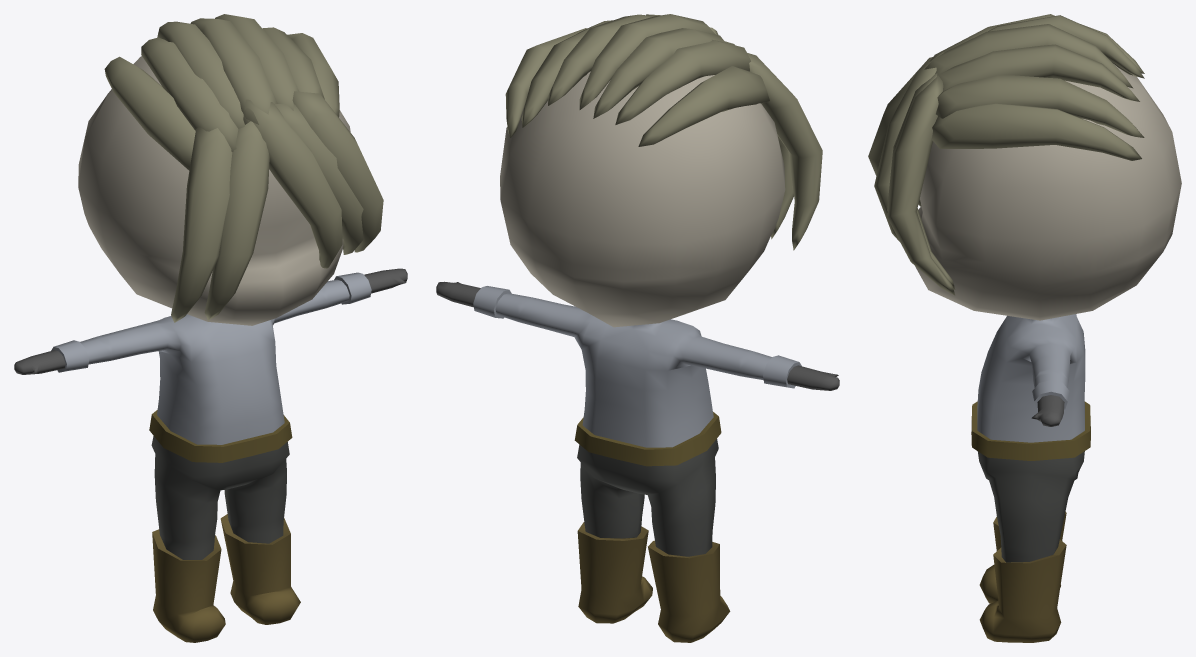
Rendered from Character_non_anim.fbx.
3 renders of one model, left to right at view 1: azimuth 30°, elevation 25°; view 2: azimuth 150°, elevation 25°; view 3: azimuth 270°, elevation 25°, orthographic. The views are drawn at different scales.
Parts seen in each view (by area): view 1: polySurface4; view 2: polySurface4; view 3: polySurface4.
Part boxes in pixels (x1=…): polySurface4: x1=14, y1=14, x2=407, y2=642; polySurface4: x1=436, y1=14, x2=839, y2=642; polySurface4: x1=868, y1=14, x2=1181, y2=642.
Bounding box in the file's own units: 2.23 × 3.21 × 1.54.
